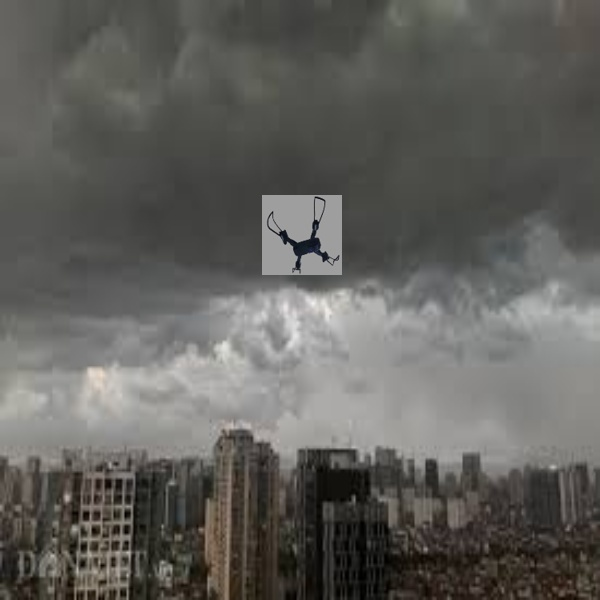drone: (258, 193, 343, 276)
